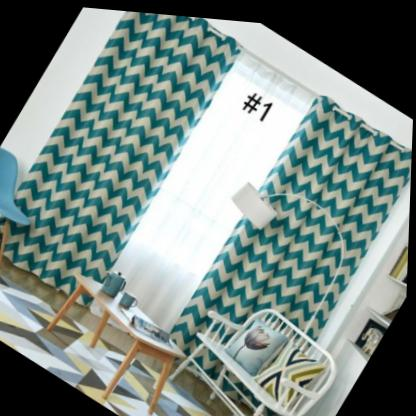Curtains: (0, 1, 416, 397)
